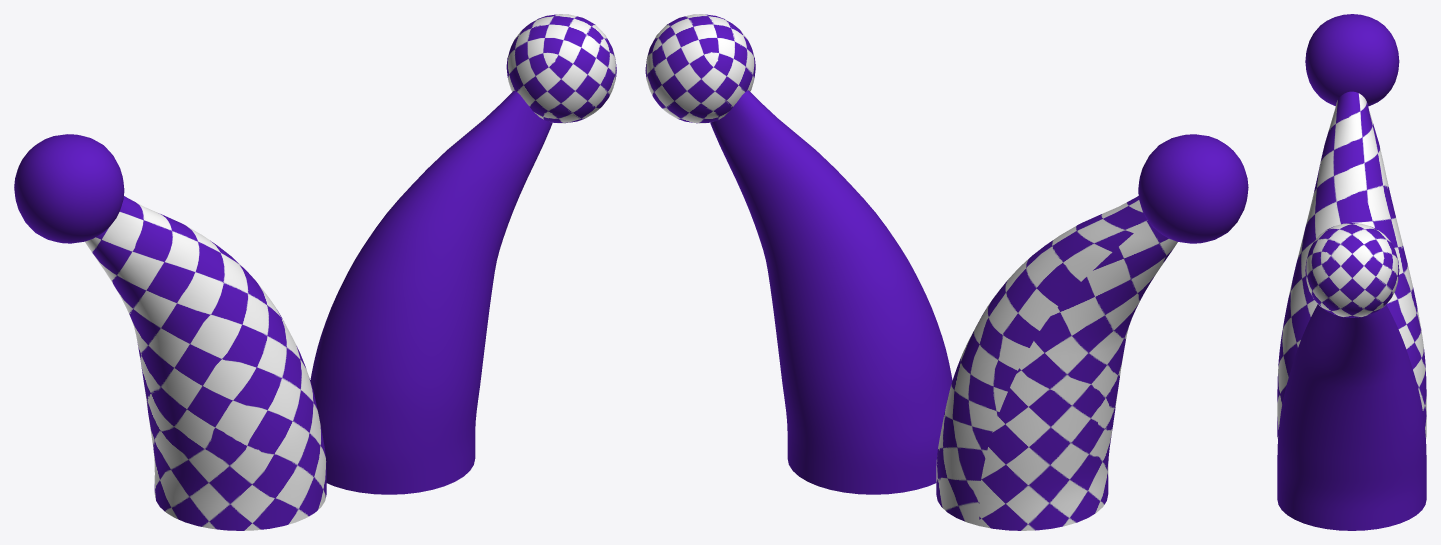
Rendered from bonus_hat.FBX.
3 renders of one model, left to right at view 1: azimuth 30°, elevation 25°; view 2: azimuth 150°, elevation 25°; view 3: azimuth 270°, elevation 25°, orthographic. The views are drawn at different scales.
Visible parts, largest first — view 1: Object001, Cylinder001, Box001, Object002; view 2: Object001, Cylinder001, Box001, Object002; view 3: Object001, Cylinder001, Object002, Box001.
Part boxes in pixels (x1,y1,x2,y2): Object001: [310, 90, 552, 494]; Cylinder001: [85, 196, 326, 530]; Box001: [14, 134, 124, 243]; Object002: [506, 14, 616, 123]; Object001: [710, 90, 952, 494]; Cylinder001: [936, 196, 1177, 530]; Box001: [1138, 134, 1248, 243]; Object002: [645, 14, 755, 123]; Object001: [1277, 304, 1426, 530]; Cylinder001: [1277, 91, 1426, 438]; Object002: [1305, 223, 1399, 317]; Box001: [1305, 14, 1399, 106].
Bounding box in the file's own units: 3712 × 2400 × 942.
Materials: 1 (1 with a texture image).
